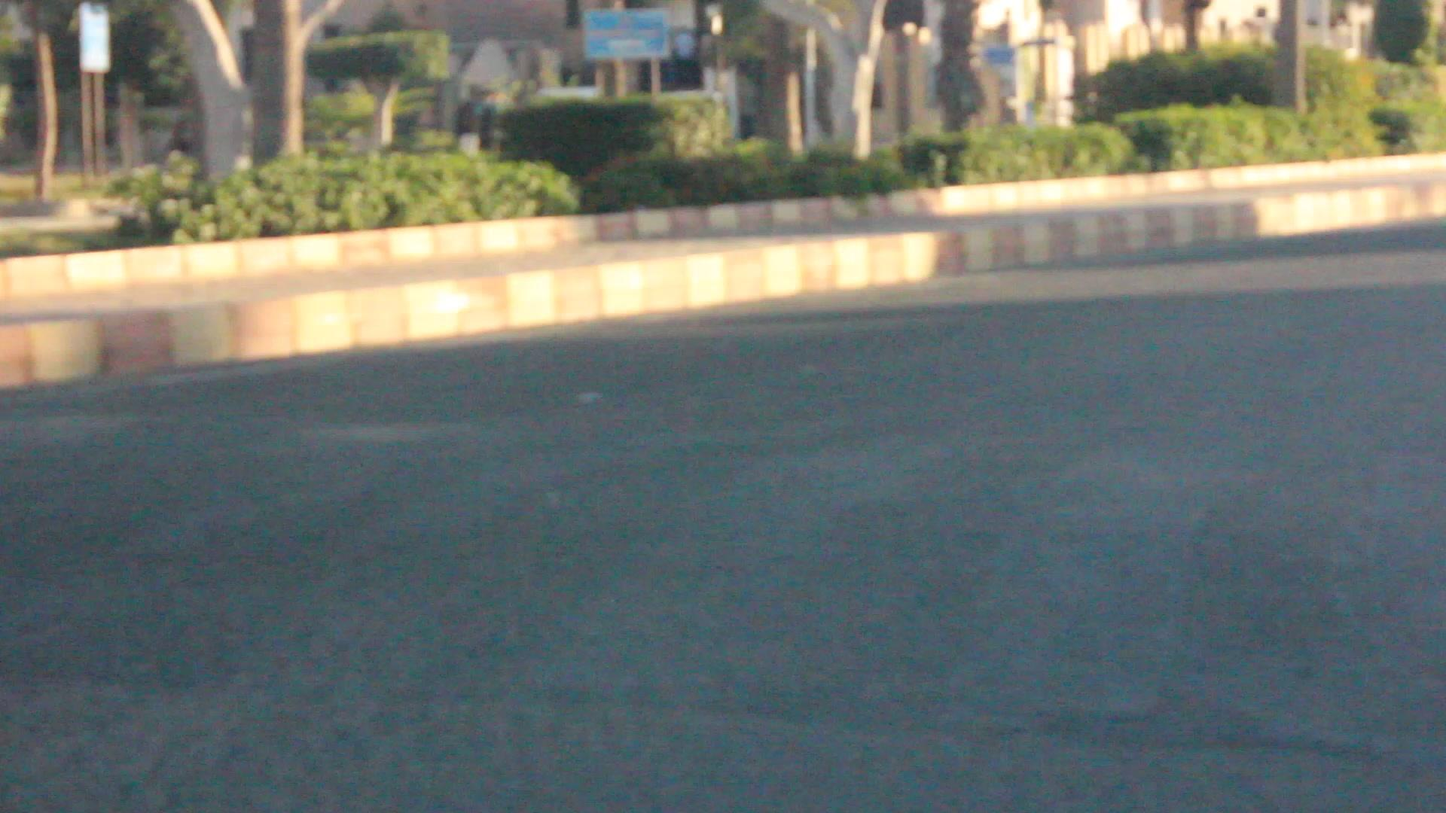Bump: (0, 389, 1445, 755)
